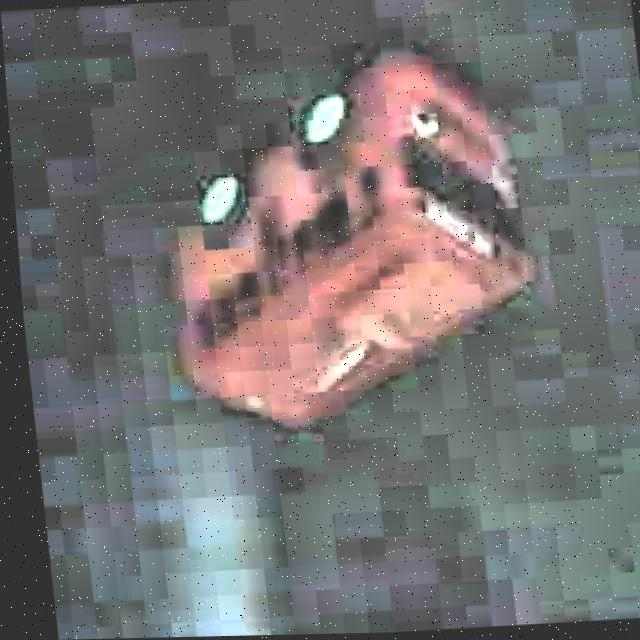bus: (141, 30, 557, 440)
